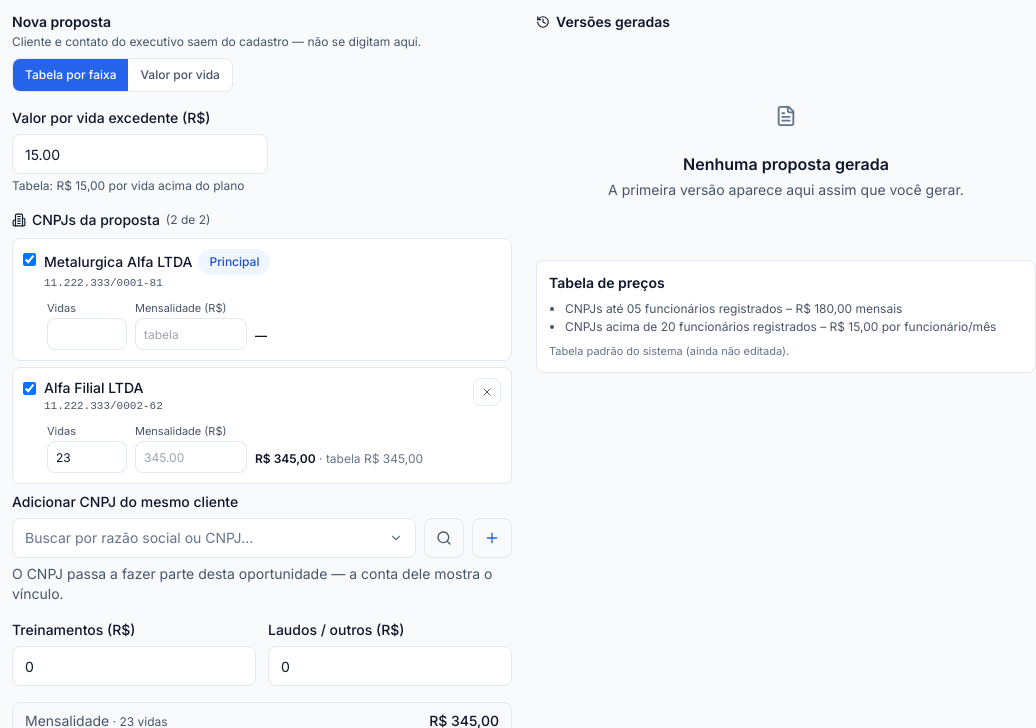
AbaProposta — vários CNPJs › desmarcar um CNPJ tira da soma
The width and height of the screenshot is (1036, 728).
Type "4" into the number field named "Vidas de Metalurgica Alfa LTDA".
click(87, 334); type("4")  # box [47,318,127,350]
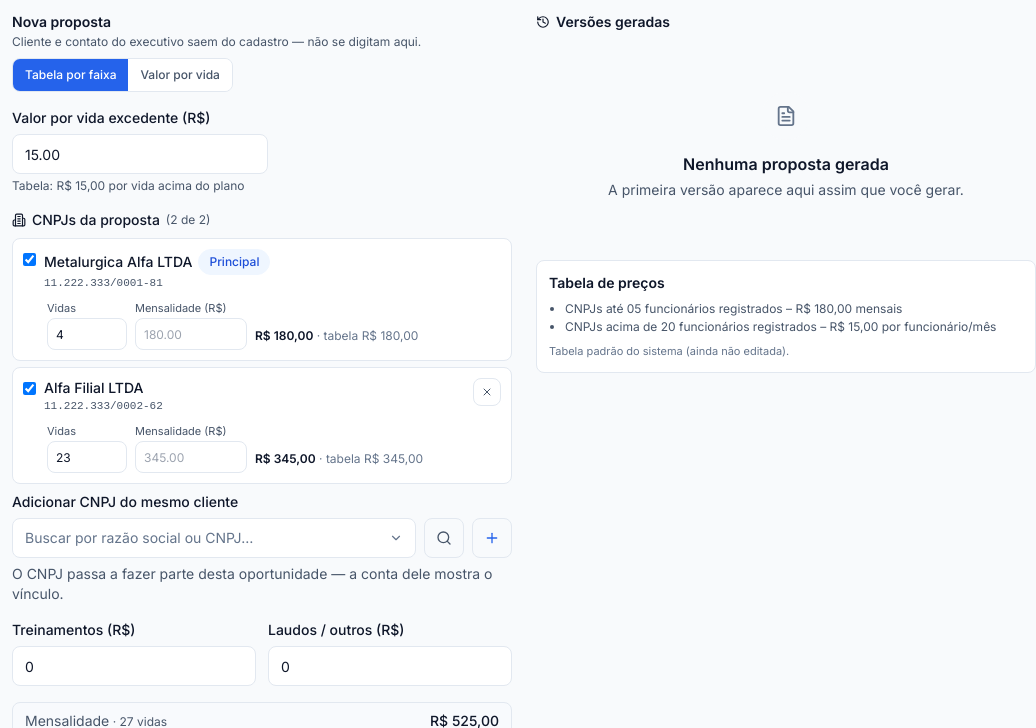
Click the checkbox named "Incluir Alfa Filial LTDA na proposta".
click(30, 388)  # box [23,382,36,395]
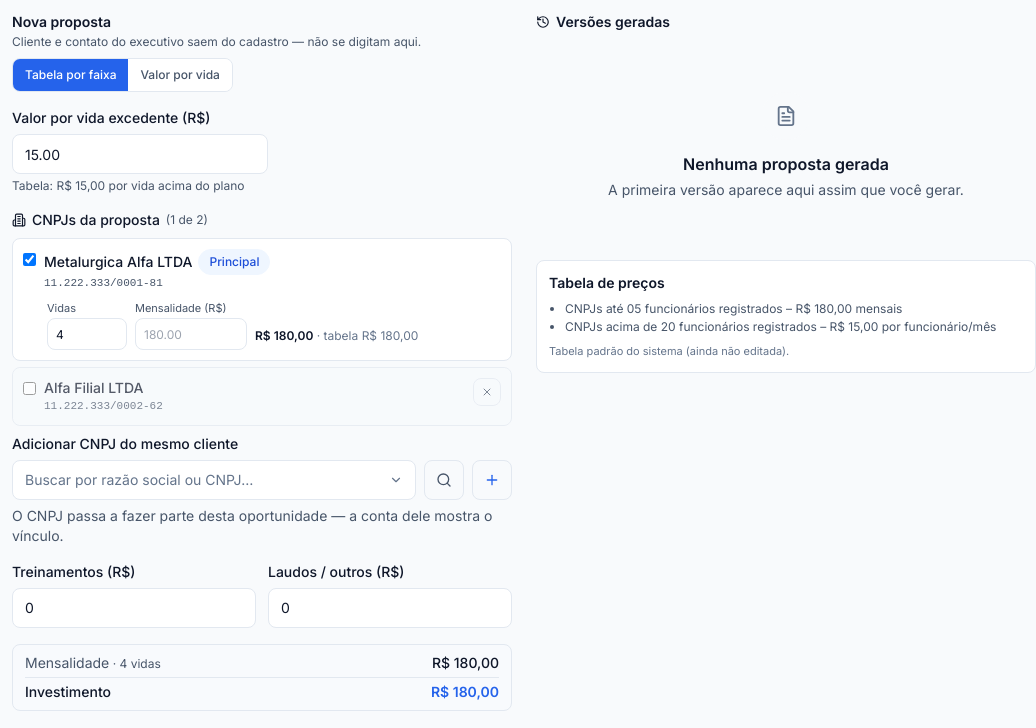
Expected: the text with test id "calc-mensalidade" shows "180,00", [432,654,499,670]
